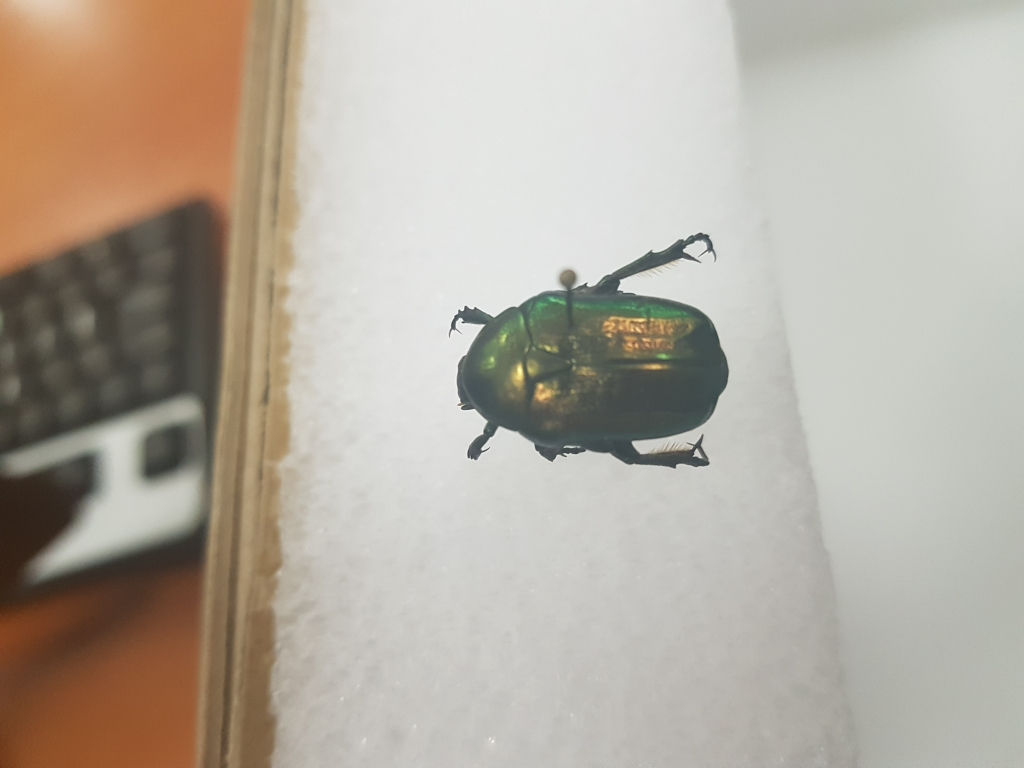Cetonia_aurata: (453, 223, 733, 479)
